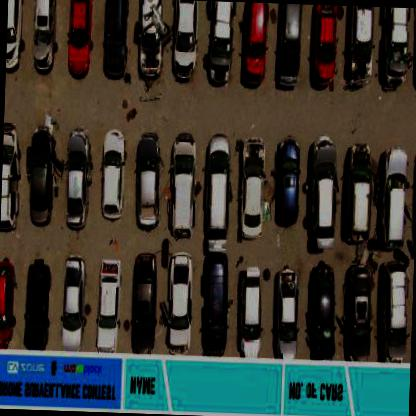car: (197, 136, 229, 334), (310, 136, 338, 249), (134, 0, 168, 89), (380, 145, 408, 250), (199, 254, 227, 354), (65, 129, 92, 232), (342, 5, 375, 89), (164, 252, 192, 350), (130, 252, 157, 352), (27, 126, 54, 226), (346, 141, 372, 244), (345, 259, 372, 358), (380, 7, 413, 88), (0, 116, 23, 232), (237, 2, 268, 86), (202, 0, 233, 84), (309, 5, 339, 89), (134, 132, 160, 228), (384, 261, 409, 360), (275, 3, 304, 88), (63, 0, 94, 79), (170, 0, 199, 82), (274, 134, 300, 225), (23, 262, 50, 348), (61, 257, 85, 352), (95, 258, 119, 351), (277, 264, 300, 361), (240, 267, 263, 361), (100, 129, 124, 218), (102, 0, 129, 79), (30, 0, 58, 73), (5, 0, 25, 72)
